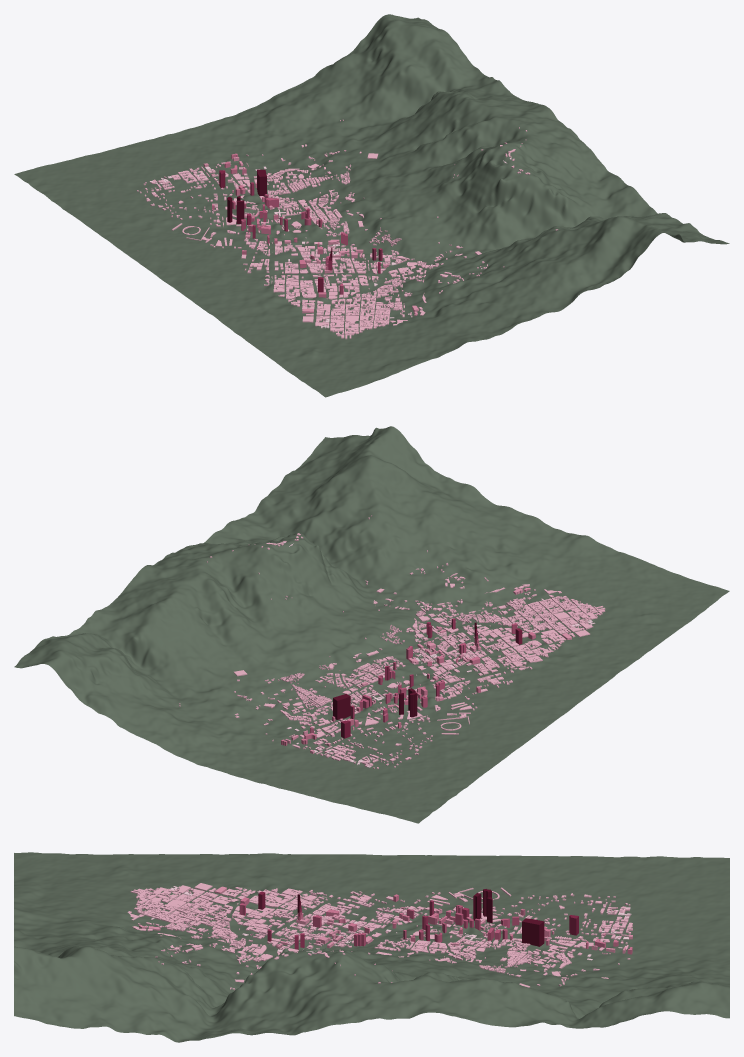
File: bogota.glb
3 renders of one model, top to bottom at view 1: azimuth 30°, elevation 25°; view 2: azimuth 150°, elevation 25°; view 3: azimuth 270°, elevation 25°, orthographic. The views are drawn at different scales.
Parts seen in each view (by area): view 1: Terreno, Edificios_01, Edificios_02; view 2: Terreno, Edificios_01, Edificios_02; view 3: Terreno, Edificios_01, Edificios_02, Edificios_03.
Boxes of the visible parts, box(x1,y1,x2,y2) form: Terreno: box(14, 14, 729, 397); Edificios_01: box(137, 166, 417, 339); Edificios_02: box(203, 153, 481, 315); Terreno: box(14, 426, 729, 823); Edificios_01: box(316, 588, 605, 768); Edificios_02: box(263, 563, 529, 753); Terreno: box(14, 852, 729, 1042); Edificios_01: box(127, 883, 632, 938); Edificios_02: box(132, 918, 632, 976); Edificios_03: box(155, 956, 608, 990).
Bounding box in the file's own units: 3652 × 749 × 4871.
